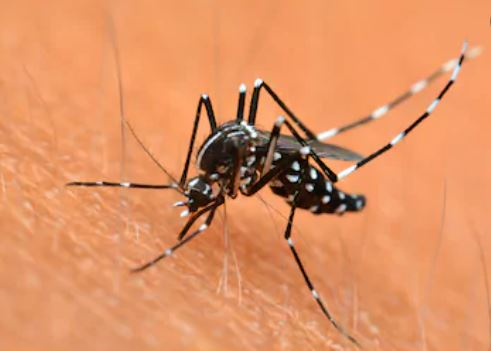dengue_mosquito: (97, 78, 368, 264)
